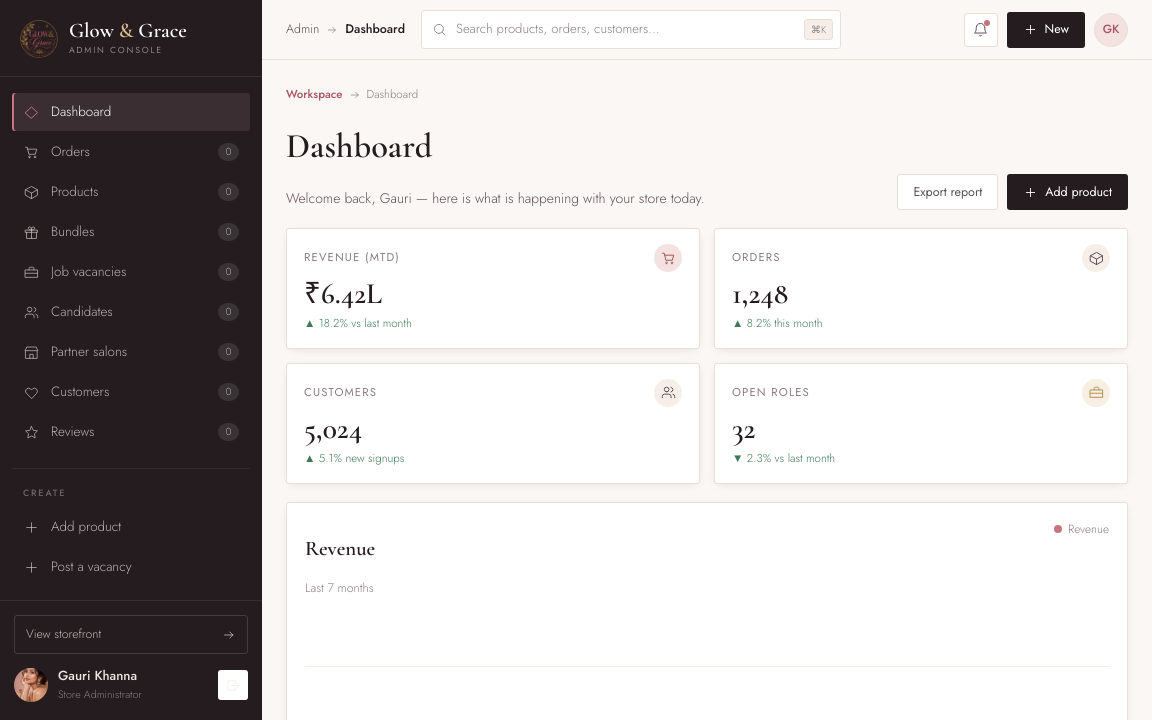
storefront interface › opens the admin add-product form without redirecting and returns to inventory on cancel
The image size is (1152, 720).
Click the button "Products 0". click: click(131, 192)
box: [12, 173, 250, 211]
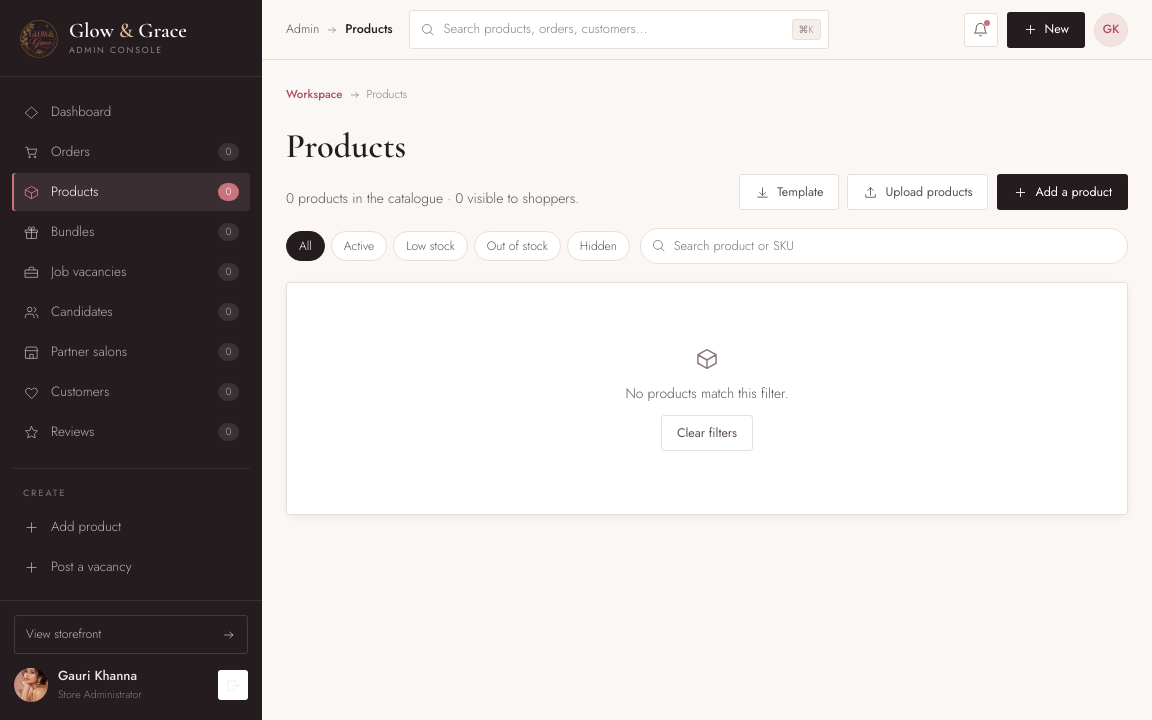
Click the button "Add a product". click: click(1063, 192)
box: [998, 174, 1128, 210]
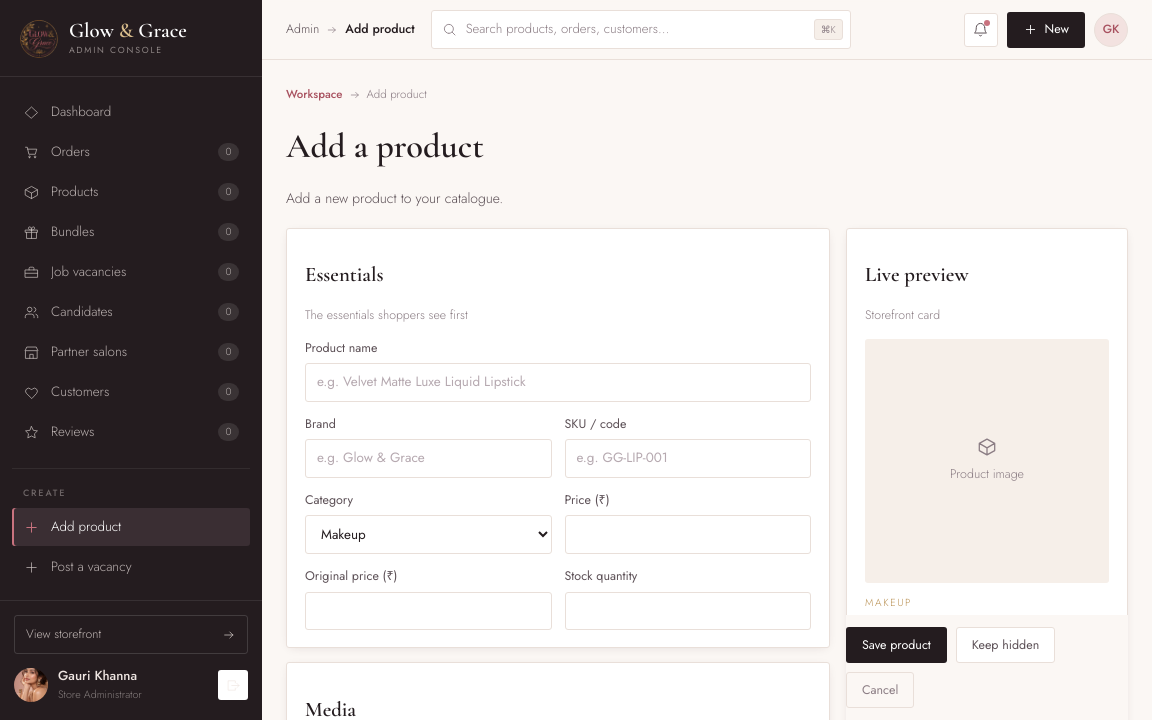
Result: the heading "Add a product" is shown at [286, 127, 503, 165]
Result: the field labelled "Product name" is shown at [305, 363, 811, 402]
Click the button "Cancel". click: click(880, 690)
box: [846, 672, 914, 708]
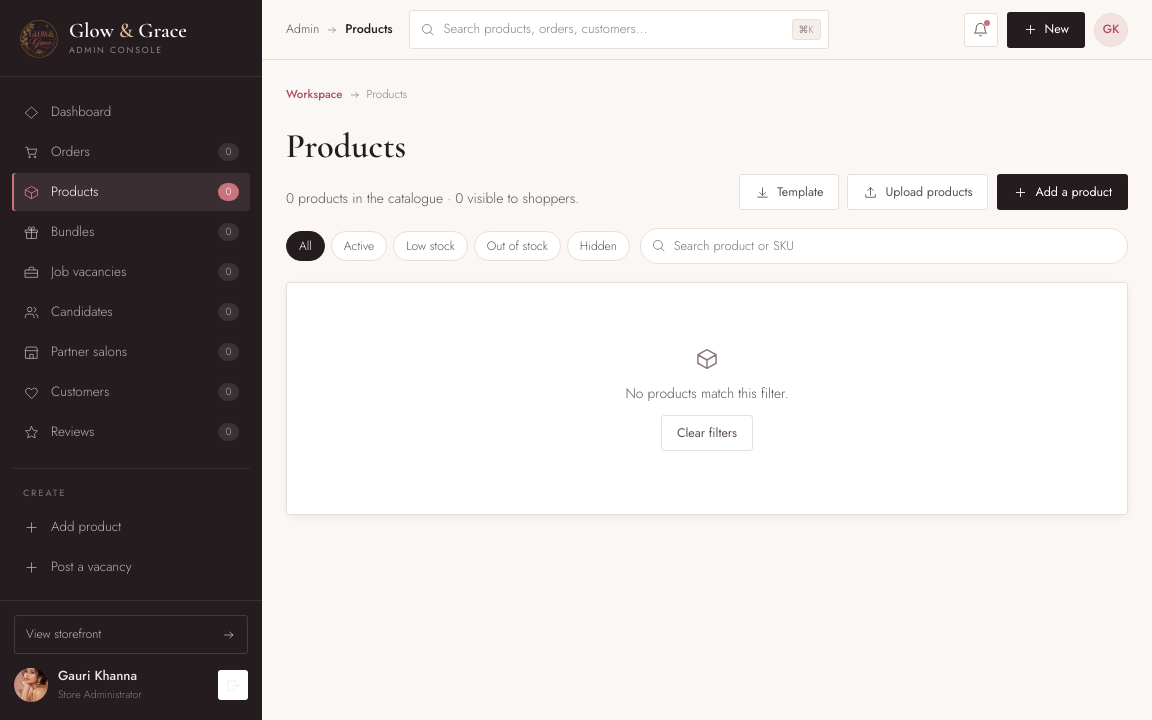
Result: the heading "Products" is shown at [286, 125, 406, 167]
